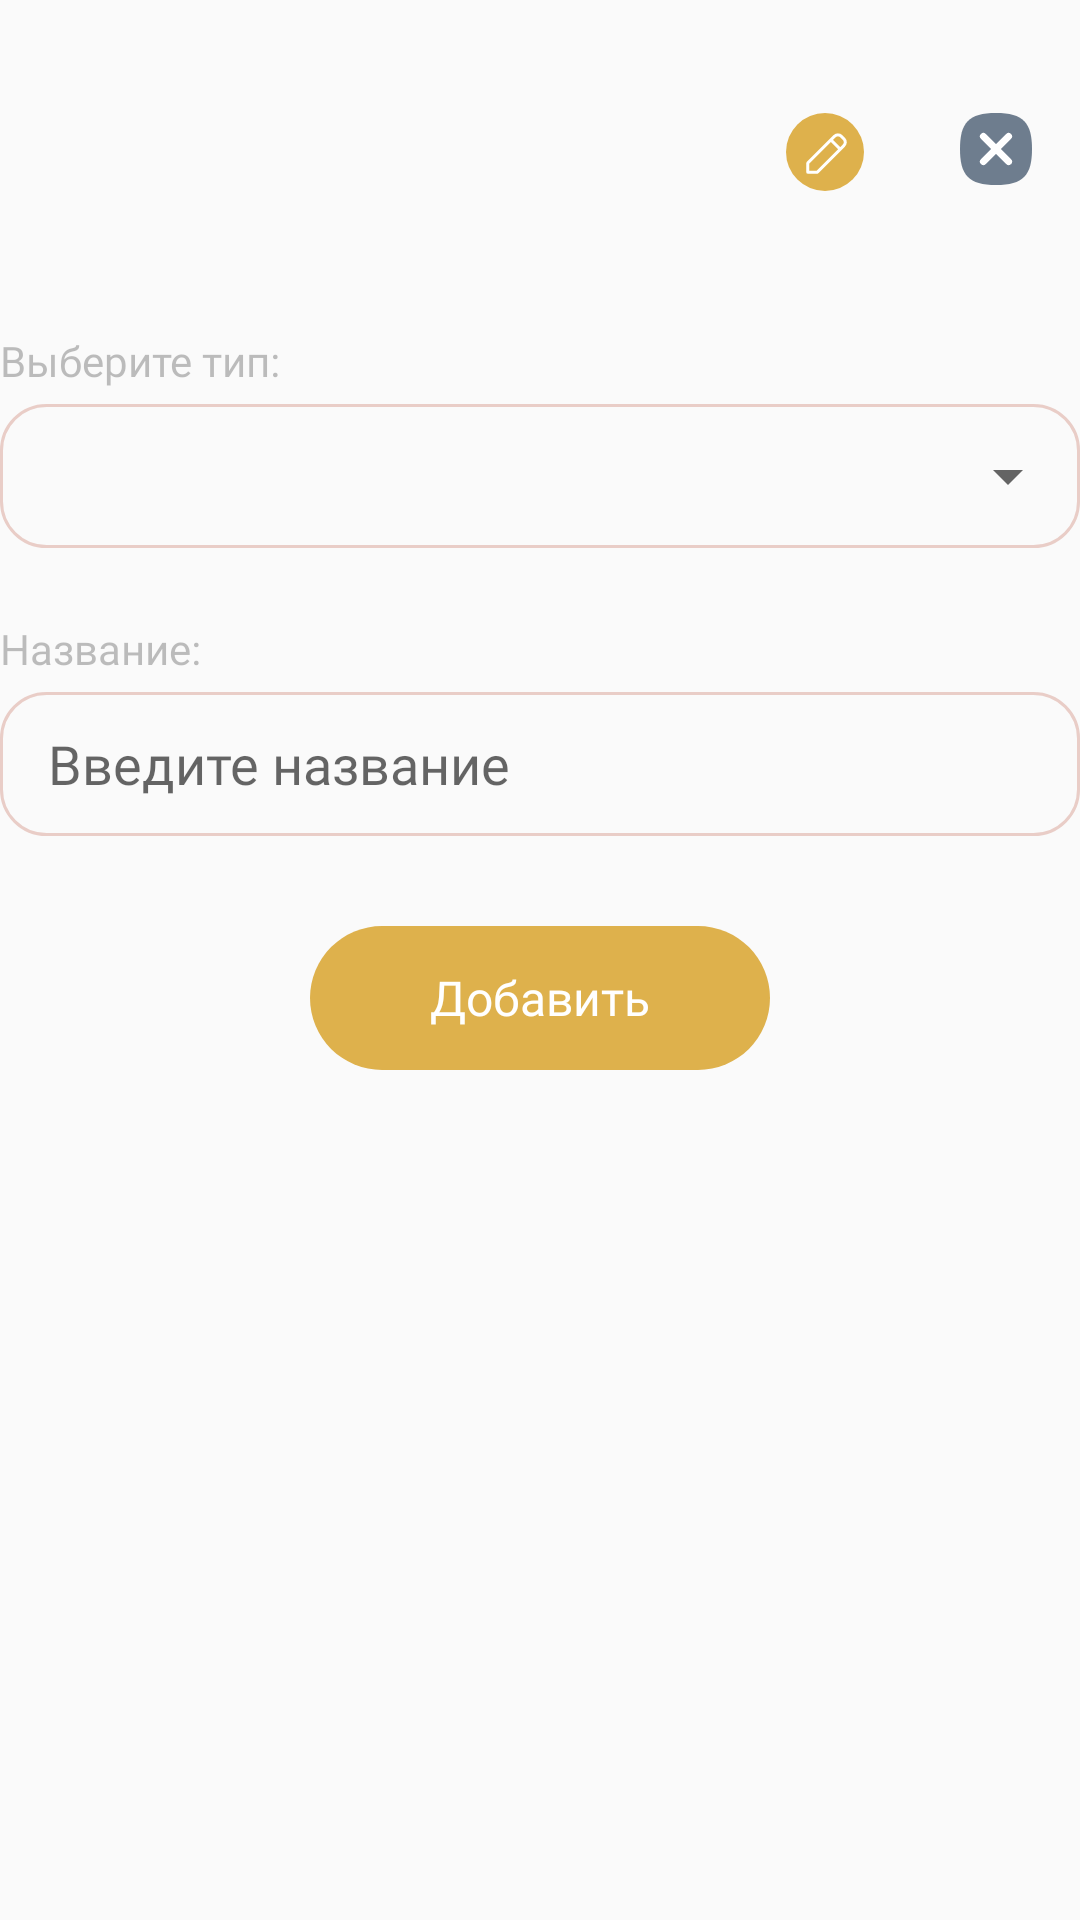

Screen size 1080*1920. Icon name, then its box in pixels as BBox(x1, y1, x2, y2):
delete: BBox(960, 113, 1032, 185)
edit: BBox(786, 113, 864, 191)
